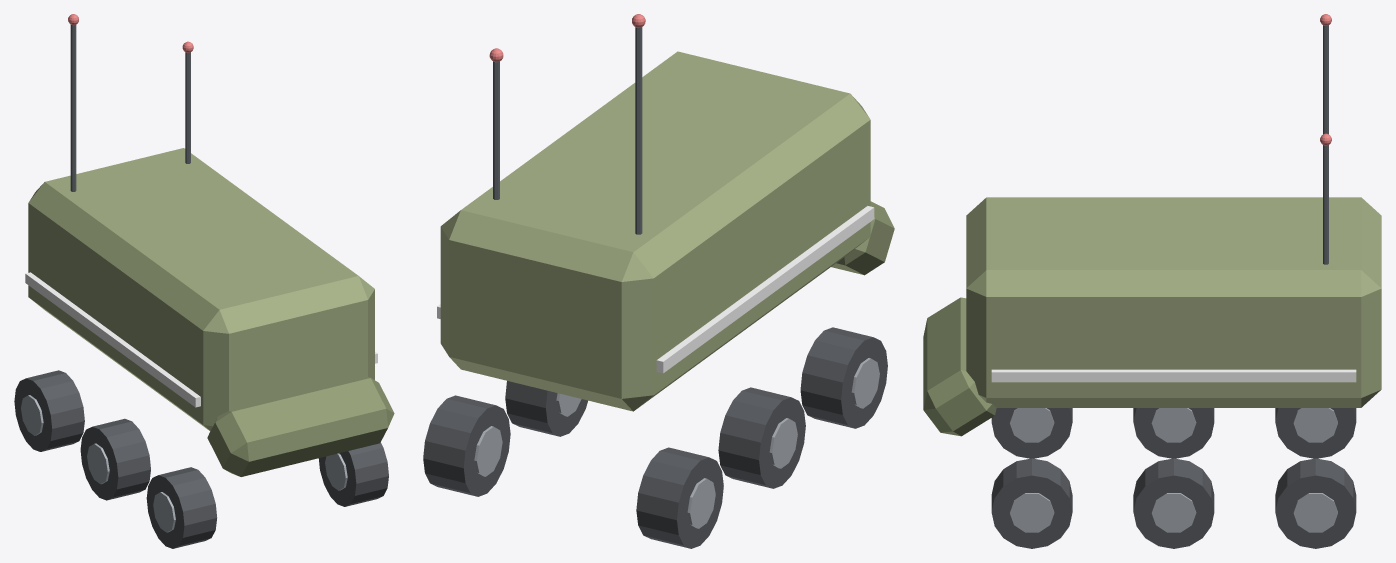
Rendered from commandveh.glb.
3 views of the same model, side by side, from view 1: azimuth 30°, elevation 25°; view 2: azimuth 150°, elevation 25°; view 3: azimuth 270°, elevation 25° (orthographic). The views are drawn at different scales.
Parts seen in each view (by area): view 1: main; view 2: main; view 3: main.
Part boxes in pixels (bbox=[...]): main: bbox=[14, 14, 394, 548]; main: bbox=[423, 14, 894, 548]; main: bbox=[923, 14, 1381, 548].
Size of the model in its own units: 0.51 by 0.982 by 0.9047.
